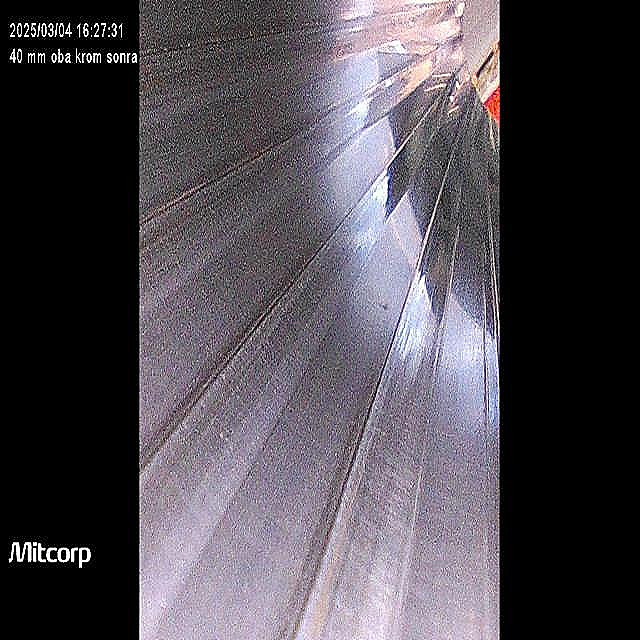hata_4.1: (370, 285, 402, 331)
